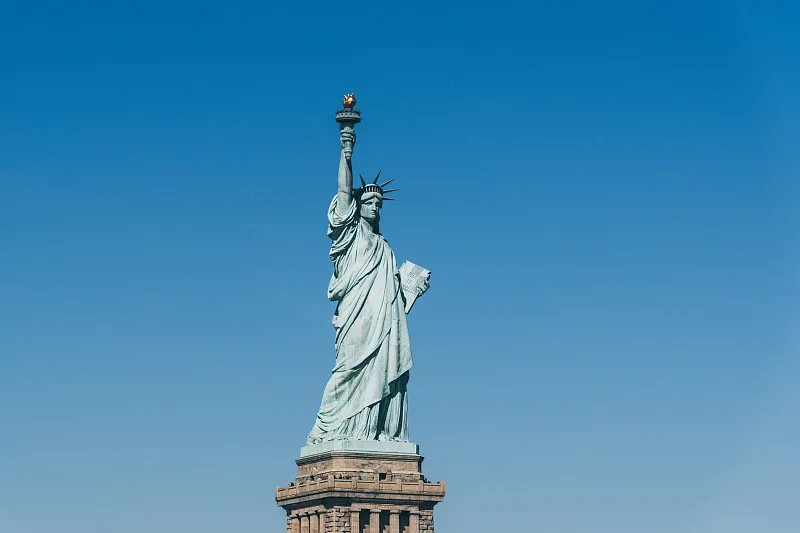SL: (275, 94, 444, 533)
